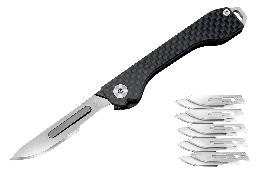scalpel: (11, 6, 247, 162)
